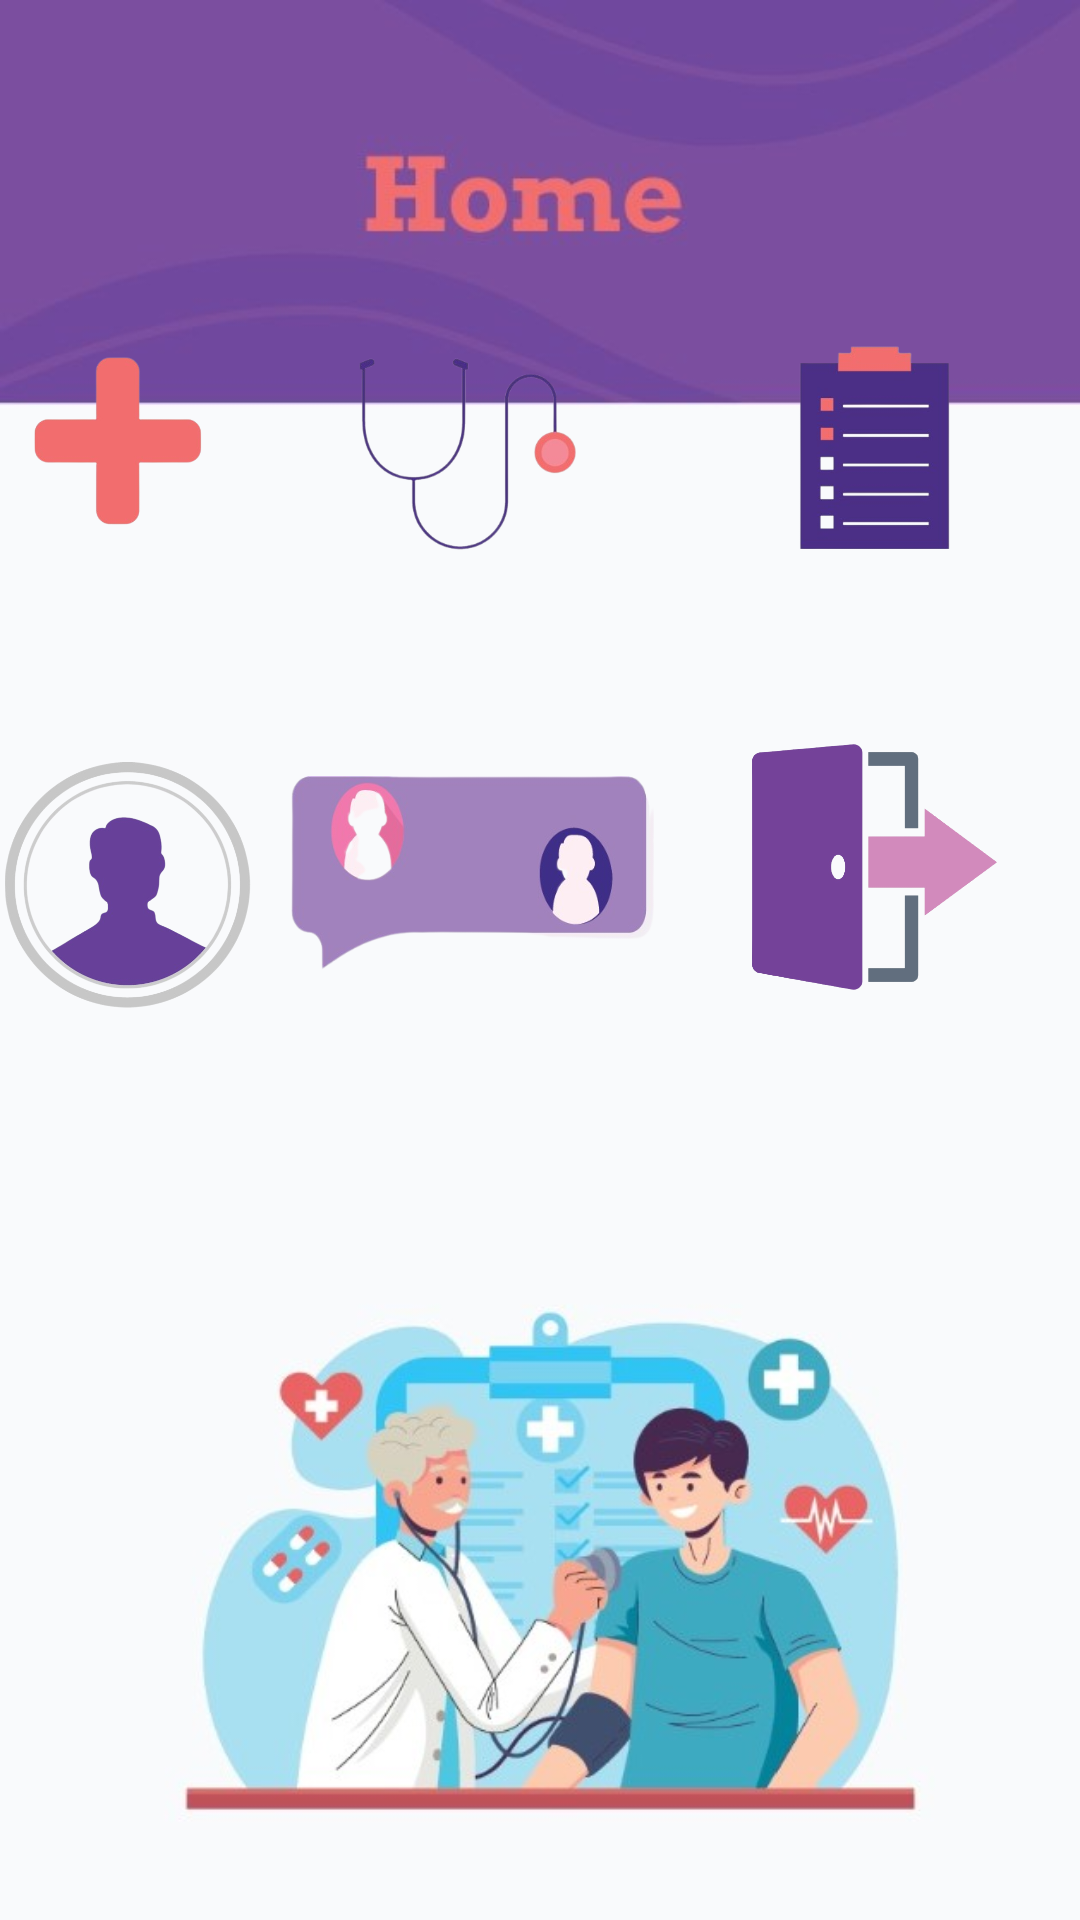

Point at icon controls on the screen. Image size 1080px x 1920px, points as (x,y).
chat: (469,872)
profile: (127,885)
reserver: (123,453)
signout: (874,867)
